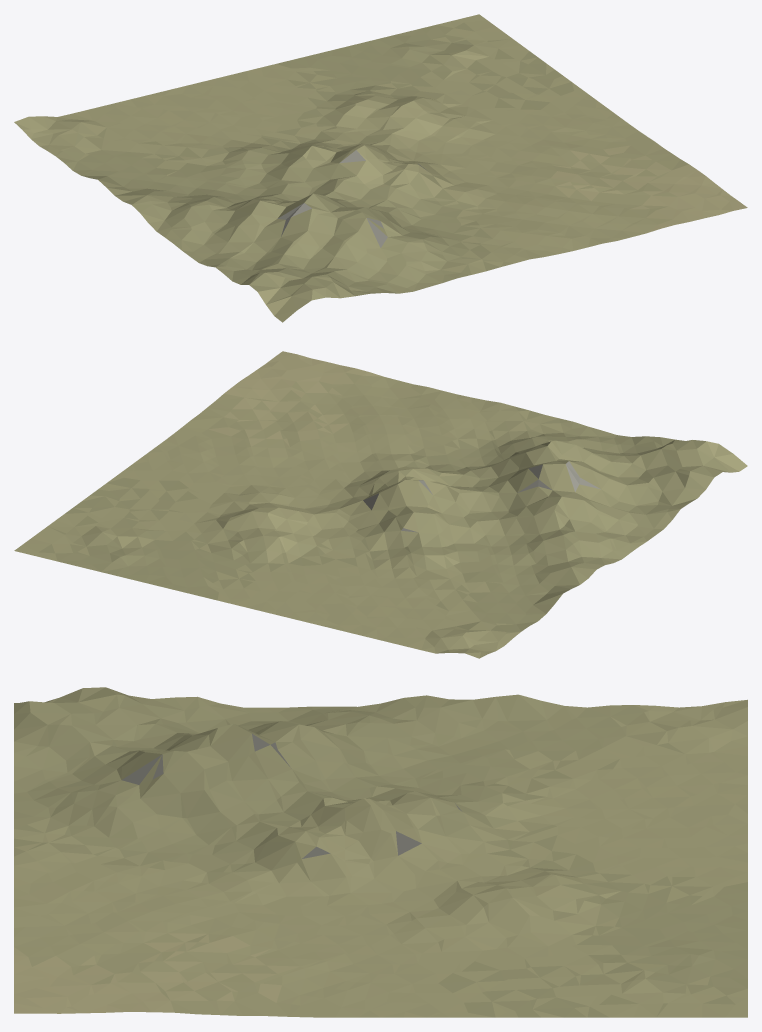
The model's file is Ground_-3_-5.glb.
3 views of the same model, one above another, from view 1: azimuth 30°, elevation 25°; view 2: azimuth 150°, elevation 25°; view 3: azimuth 270°, elevation 25° (orthographic). The views are drawn at different scales.
Visible parts, largest first — view 1: Ground_-3_-5; view 2: Ground_-3_-5; view 3: Ground_-3_-5.
Boxes of the visible parts, left/top/right/bottom form: Ground_-3_-5: left=14, top=14, right=747, bottom=322; Ground_-3_-5: left=14, top=351, right=747, bottom=658; Ground_-3_-5: left=14, top=687, right=747, bottom=1017.
Bounding box in the file's own units: 768 × 60.61 × 768.
